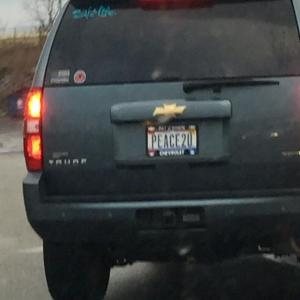Plate: (146, 124, 200, 156)
